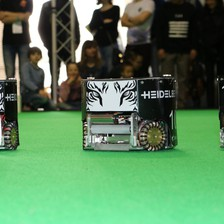robot: (77, 69, 181, 153), (1, 75, 22, 152)
